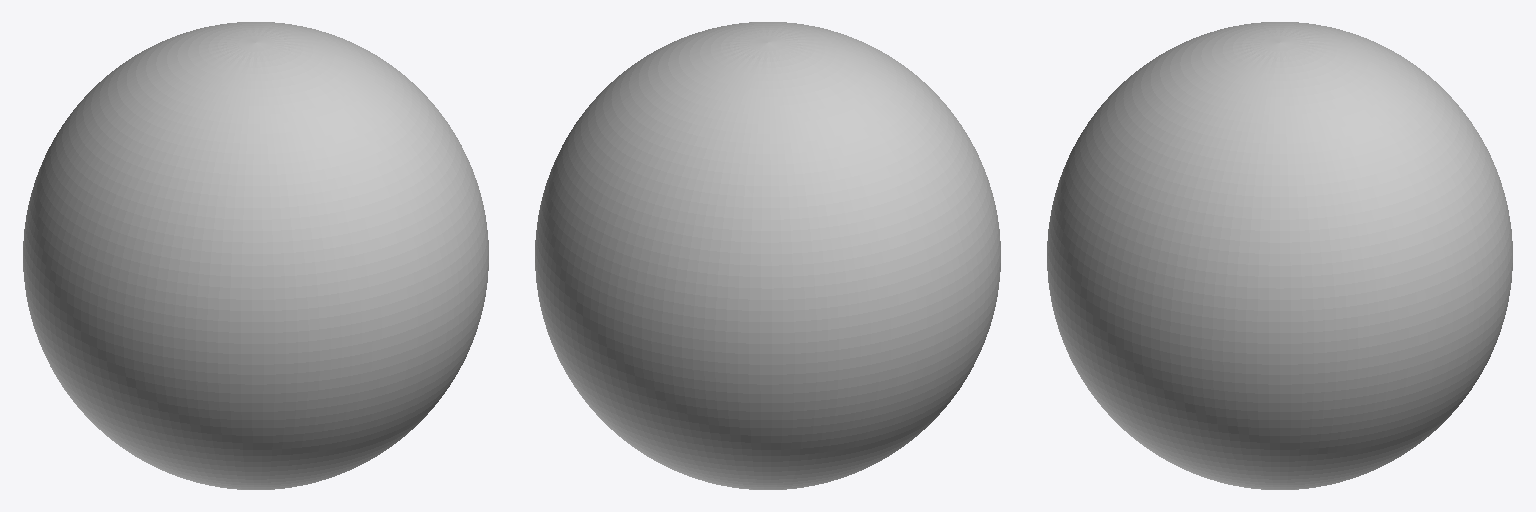
The model's file is venus-planets-2.obj.
3 views of the same model, side by side, from view 1: azimuth 30°, elevation 25°; view 2: azimuth 150°, elevation 25°; view 3: azimuth 270°, elevation 25° (orthographic).
Parts seen in each view (by area): view 1: Sphere.001; view 2: Sphere.001; view 3: Sphere.001.
Part boxes in pixels (left/top/right/bottom): Sphere.001: left=23, top=22, right=488, bottom=489; Sphere.001: left=535, top=22, right=1000, bottom=489; Sphere.001: left=1047, top=22, right=1512, bottom=489.
Bounding box in the file's own units: 1.97 × 2 × 1.97.